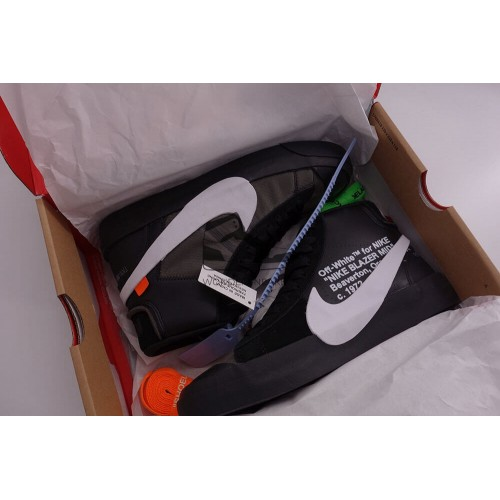Nike Blazer Grim Reaper: (175, 198, 467, 418), (90, 125, 355, 363)
